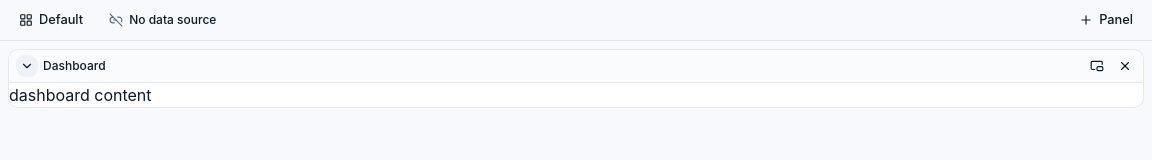
Test: panel operations › closes a panel from its own chrome
expect the text "dashboard content" is shown: met, box [9,85,152,105]
Click the button named "Close Dashboard": x=1125, y=66 [1113,54,1137,78]
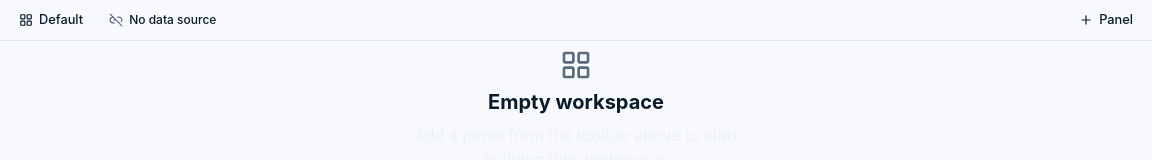
expect the text "dashboard content" is gone: met
